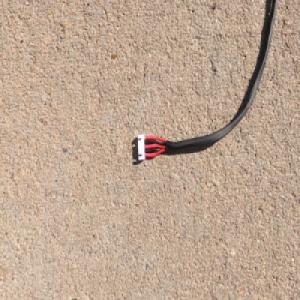Wire: (136, 0, 279, 163)
